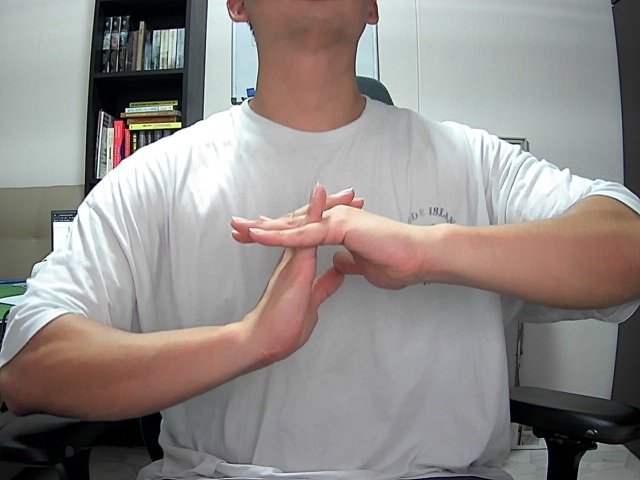Ox: (204, 155, 444, 373)
